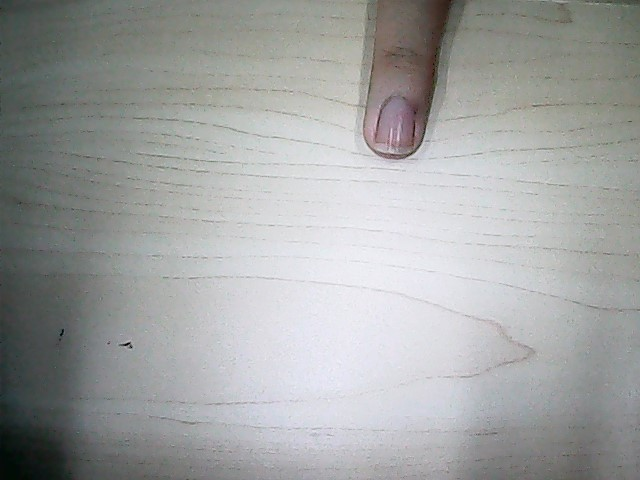nail: (377, 102, 413, 151)
